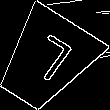L_SW: (17, 31, 75, 90)
